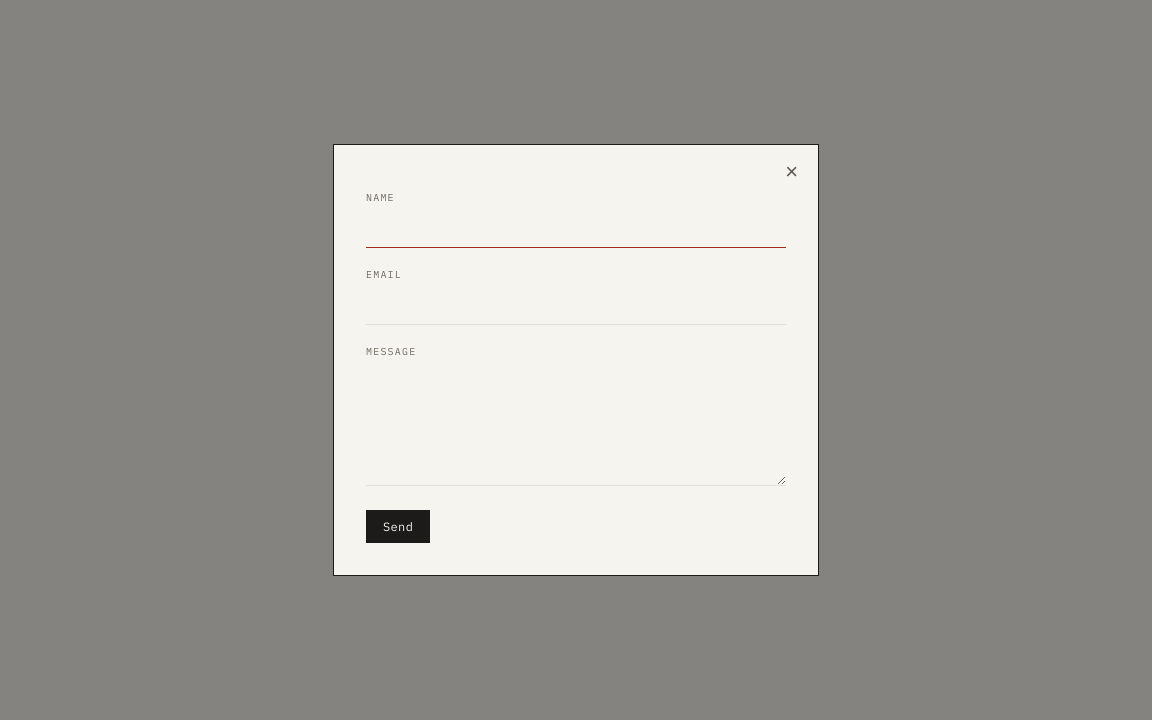
Test: ContactForm › shows an inline error with a mailto fallback when the API fails
In the field labelled "Name": (576, 229) [366,210,786,248], type "Jane"
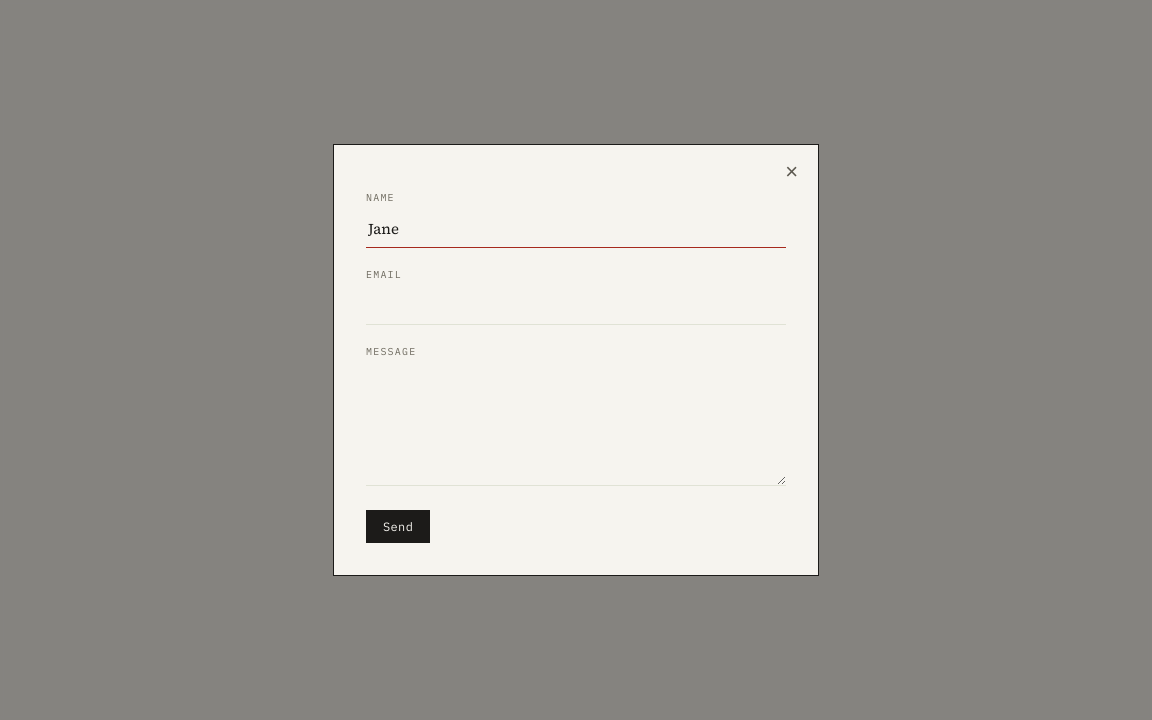
In the field labelled "Email": (576, 306) [366,287,786,325], type "jane@example.com"
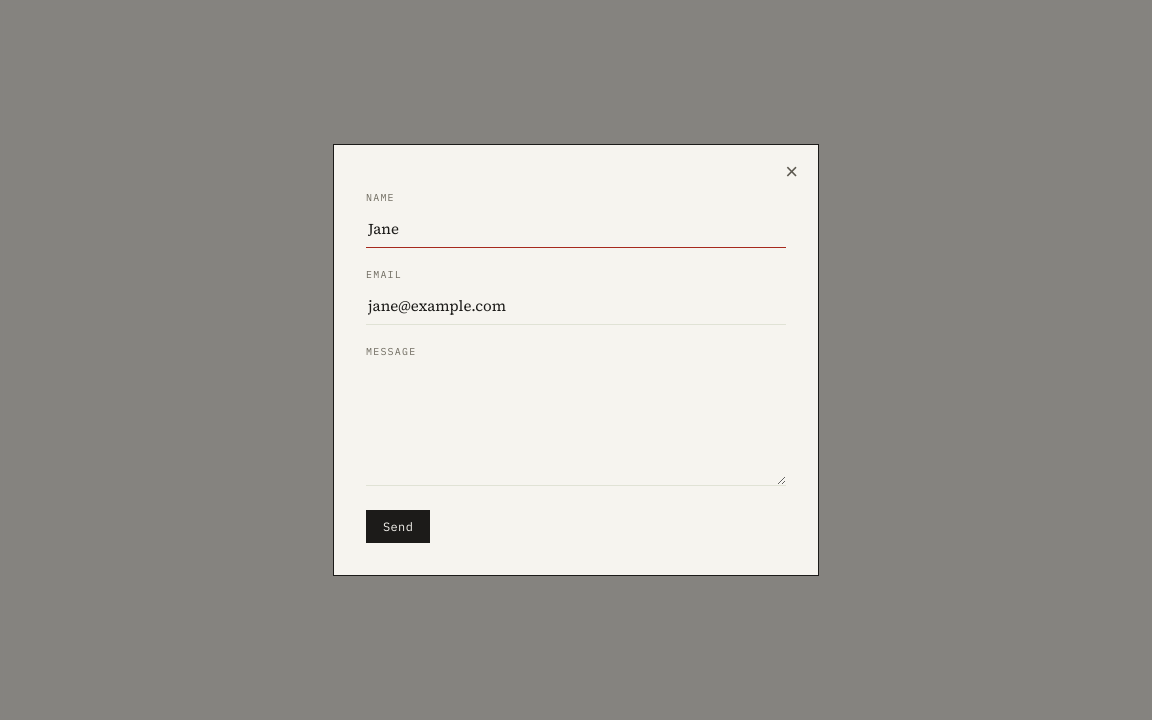
In the text box labelled "Message": (576, 425) [366,364,786,486], type "Hello there"
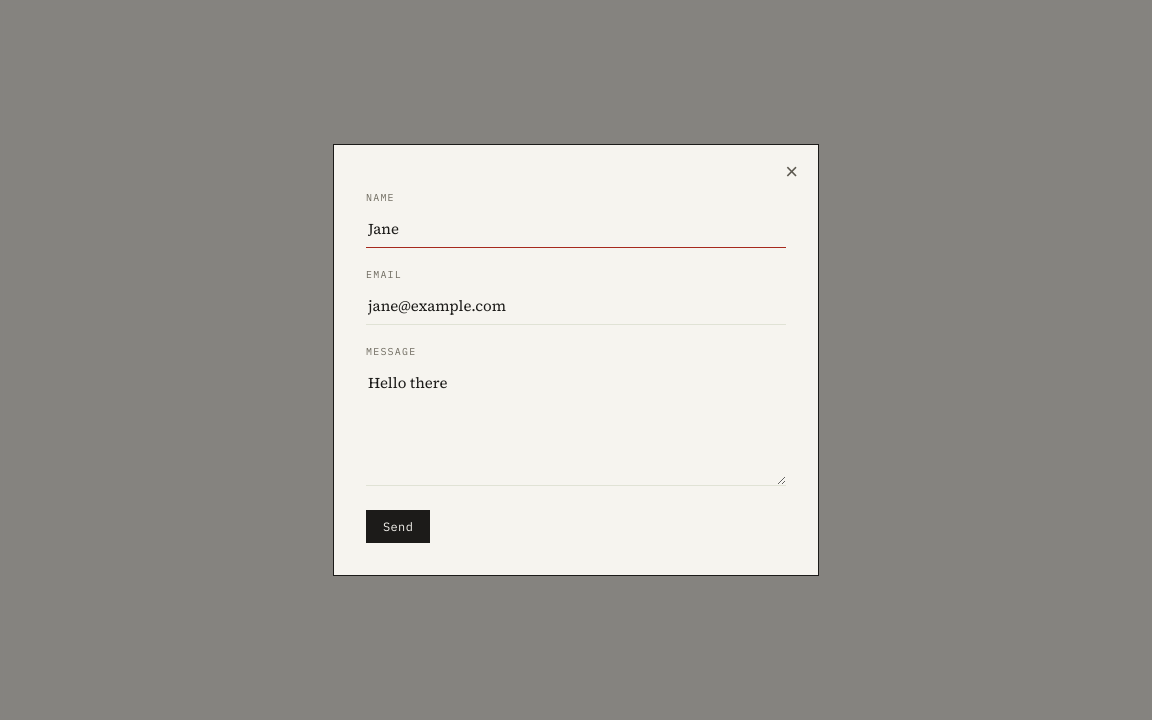
Click the button "Send": (398, 526) [366,510,430,543]
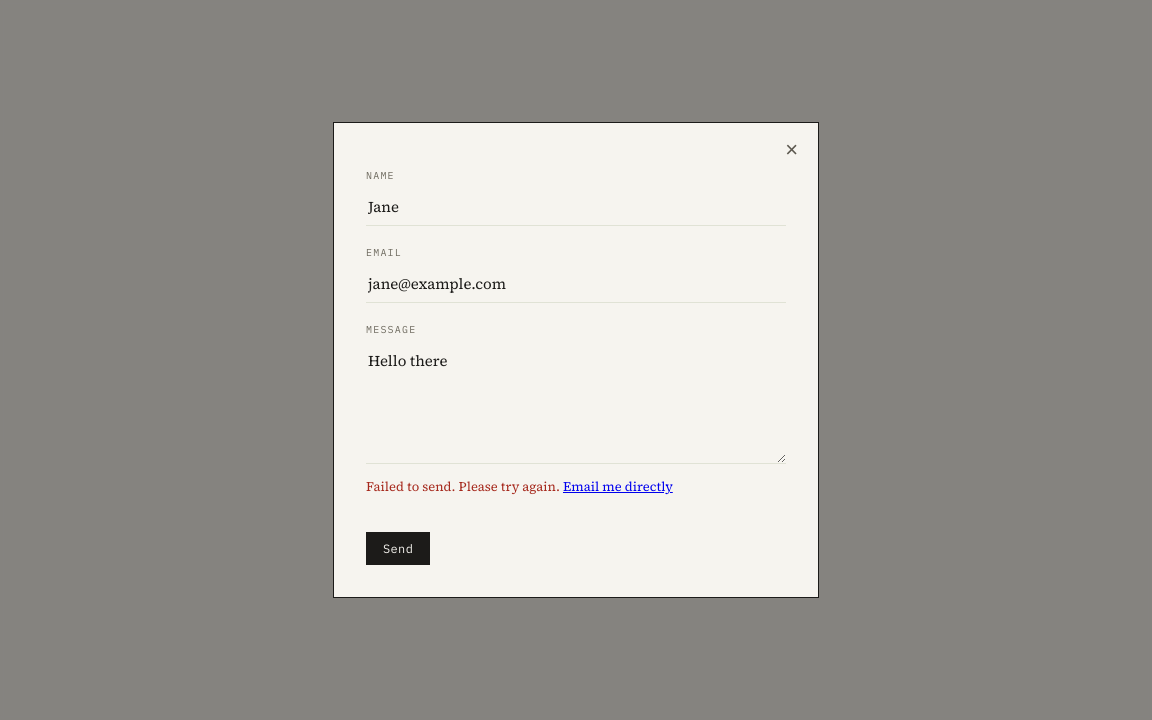
Result: the text "Failed to send. Please try again. Email me directly" is shown at [366,478,673,495]
